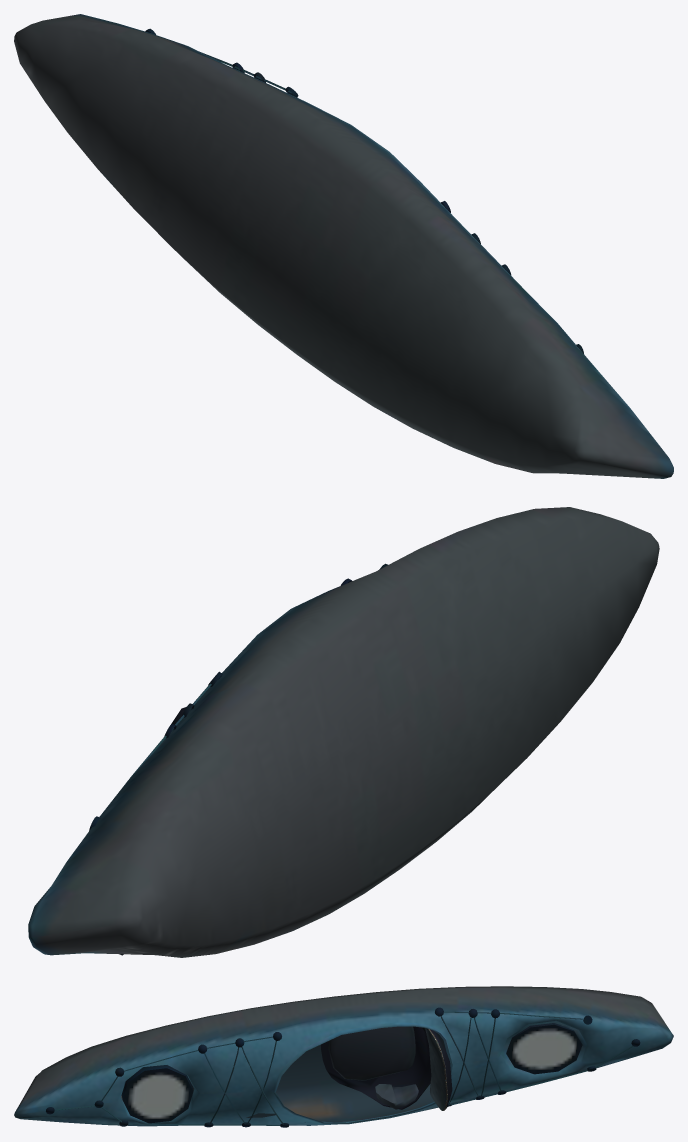
The model's file is Boat SUV.fbx.
The picture shows the model from 3 angles, top to bottom: view 1: azimuth 30°, elevation 25°; view 2: azimuth 150°, elevation 25°; view 3: azimuth 270°, elevation 25°; orthographic projection. The views are drawn at different scales.
Visible parts, largest first — view 1: Boat SUV; view 2: Boat SUV; view 3: Boat SUV.
Part boxes in pixels (x1,y1,x2,y2): Boat SUV: [14, 14, 673, 478]; Boat SUV: [28, 507, 659, 957]; Boat SUV: [14, 986, 673, 1127].
Size of the model in its own units: 0.4446 by 0.5864 by 2.62.
